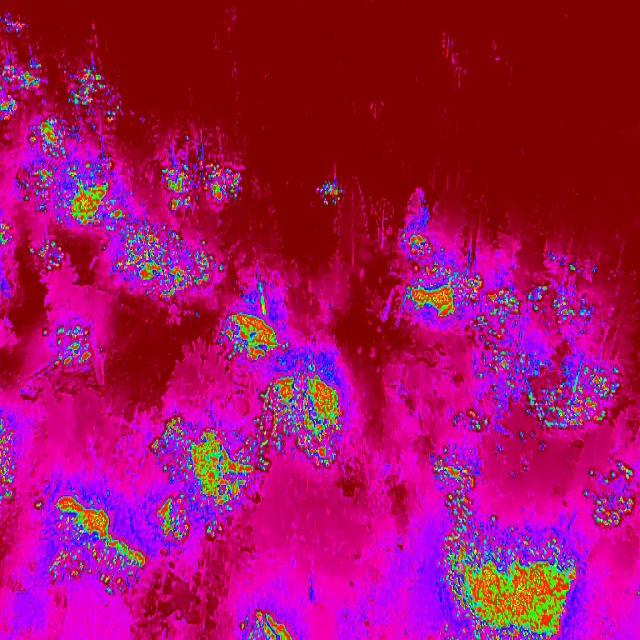fire: (458, 257, 620, 435), (430, 521, 583, 640), (22, 120, 114, 300), (147, 415, 264, 546), (250, 348, 348, 470), (49, 492, 154, 598), (115, 221, 232, 301), (404, 231, 494, 318), (165, 140, 248, 216), (421, 448, 488, 520), (0, 13, 46, 117), (216, 310, 292, 365), (64, 64, 130, 126), (42, 322, 115, 378), (589, 460, 639, 526), (234, 607, 305, 640), (0, 408, 21, 507), (312, 178, 348, 212), (114, 182, 142, 220), (0, 218, 13, 254)
